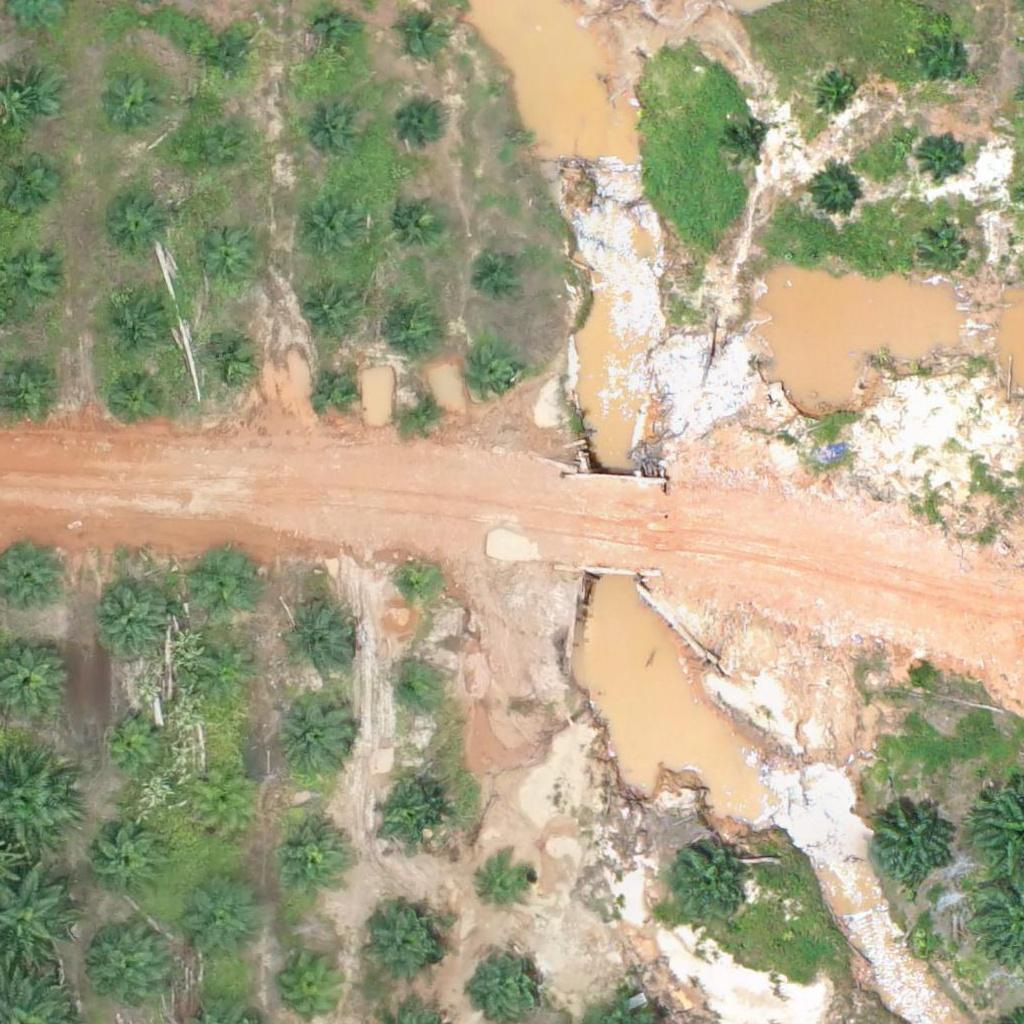Kelapa_Sawit: (363, 905, 451, 993), (866, 803, 954, 891), (87, 924, 174, 1013), (665, 844, 752, 932), (90, 577, 177, 665), (280, 599, 355, 675), (371, 780, 446, 856), (473, 943, 548, 1019), (280, 696, 355, 772), (88, 823, 163, 898), (185, 887, 260, 962), (272, 814, 347, 889), (278, 947, 353, 1022), (184, 126, 247, 189), (299, 102, 362, 165), (297, 199, 360, 262), (104, 368, 167, 431), (193, 549, 256, 612), (384, 295, 447, 358), (298, 280, 361, 343), (189, 771, 252, 834), (106, 73, 168, 136), (108, 290, 170, 353), (105, 194, 167, 257), (199, 645, 261, 708), (194, 232, 256, 295), (199, 330, 261, 393), (384, 190, 446, 253), (478, 852, 540, 915), (1, 71, 63, 134), (98, 711, 160, 773), (311, 365, 361, 416), (397, 386, 447, 437), (918, 31, 968, 82), (918, 129, 968, 180), (400, 101, 450, 151), (310, 12, 360, 62), (396, 11, 446, 61), (809, 169, 859, 219), (468, 352, 518, 402), (478, 247, 528, 297), (390, 560, 440, 610), (386, 667, 436, 717), (920, 230, 970, 280), (812, 65, 862, 115), (721, 121, 771, 171), (204, 36, 254, 86)
